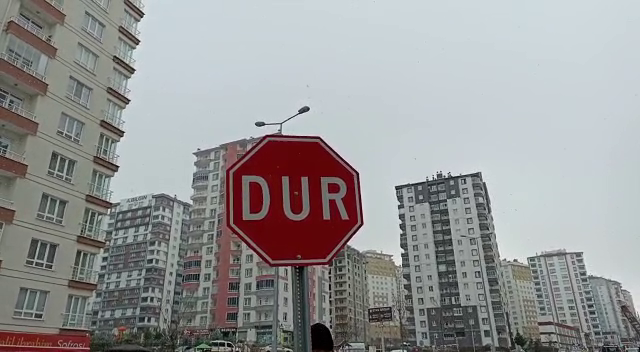stop: (223, 132, 366, 270)
